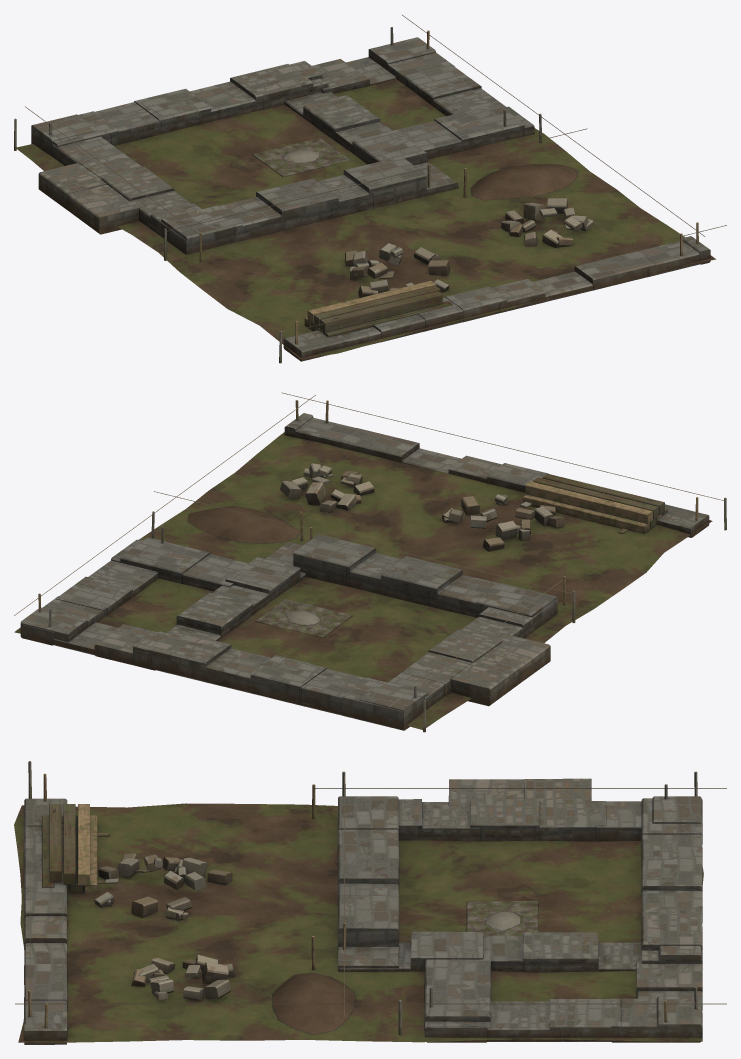
The model's file is mint_build1.glb.
The picture shows the model from 3 angles, top to bottom: view 1: azimuth 30°, elevation 25°; view 2: azimuth 150°, elevation 25°; view 3: azimuth 270°, elevation 25°; orthographic projection. The views are drawn at different scales.
Parts seen in each view (by area): view 1: mint_build1_LOD0; view 2: mint_build1_LOD0; view 3: mint_build1_LOD0.
Boxes of the visible parts, <box> form: mint_build1_LOD0: <box>14,15,726,363</box>; mint_build1_LOD0: <box>14,392,726,732</box>; mint_build1_LOD0: <box>14,761,726,1044</box>.
Size of what is drawn, in the model's own units: 11.92 by 0.8793 by 13.97.
Materials: 1 (1 with a texture image).
